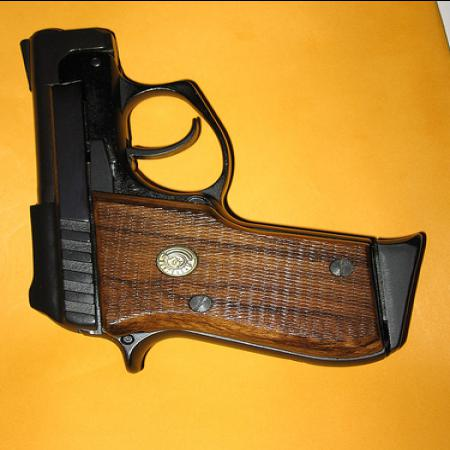Pistol: (17, 28, 425, 377)
